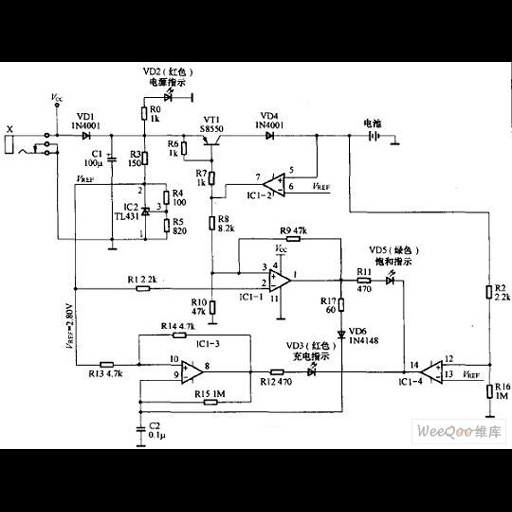amplifier: (261, 172, 287, 199), (267, 267, 292, 293), (178, 359, 203, 385), (419, 359, 445, 384)
battery: (365, 128, 384, 143)
capacitor: (130, 424, 146, 434)
firstpolarcapacitor: (102, 151, 121, 164)
firstresistance: (136, 103, 149, 125), (207, 297, 219, 317), (205, 212, 216, 233), (97, 358, 117, 369), (484, 280, 493, 304), (484, 382, 494, 403), (266, 366, 287, 376), (160, 216, 171, 235), (169, 330, 188, 341), (132, 284, 155, 293), (282, 234, 304, 243), (141, 148, 151, 167), (351, 276, 374, 284), (338, 293, 346, 315), (208, 168, 217, 187), (160, 189, 170, 206), (201, 399, 220, 407)
seconddiode: (261, 130, 282, 143), (334, 328, 348, 341), (78, 130, 94, 141)
secondled: (159, 85, 180, 103), (303, 362, 322, 380)
